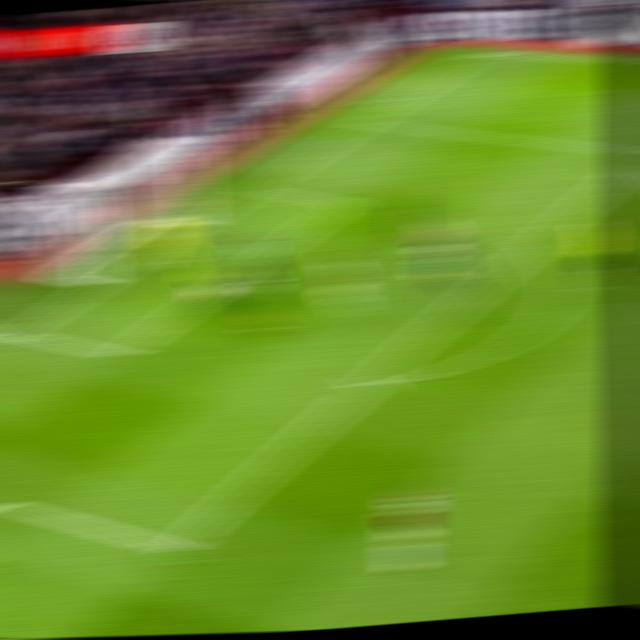bigarea_bottom_inner: (151, 527, 201, 570)
bigarea_top_outter: (349, 112, 382, 130)
bottom_arc_area_intersection: (350, 369, 391, 396)
corner: (464, 44, 500, 57)
smallarea_bottom_inner: (98, 339, 140, 370)
smallarea_bottom_outter: (0, 319, 37, 345)
smallarea_top_inner: (325, 194, 360, 211)
smallarea_top_outter: (238, 177, 274, 201)
top_arc_area_intersection: (519, 232, 555, 256)
